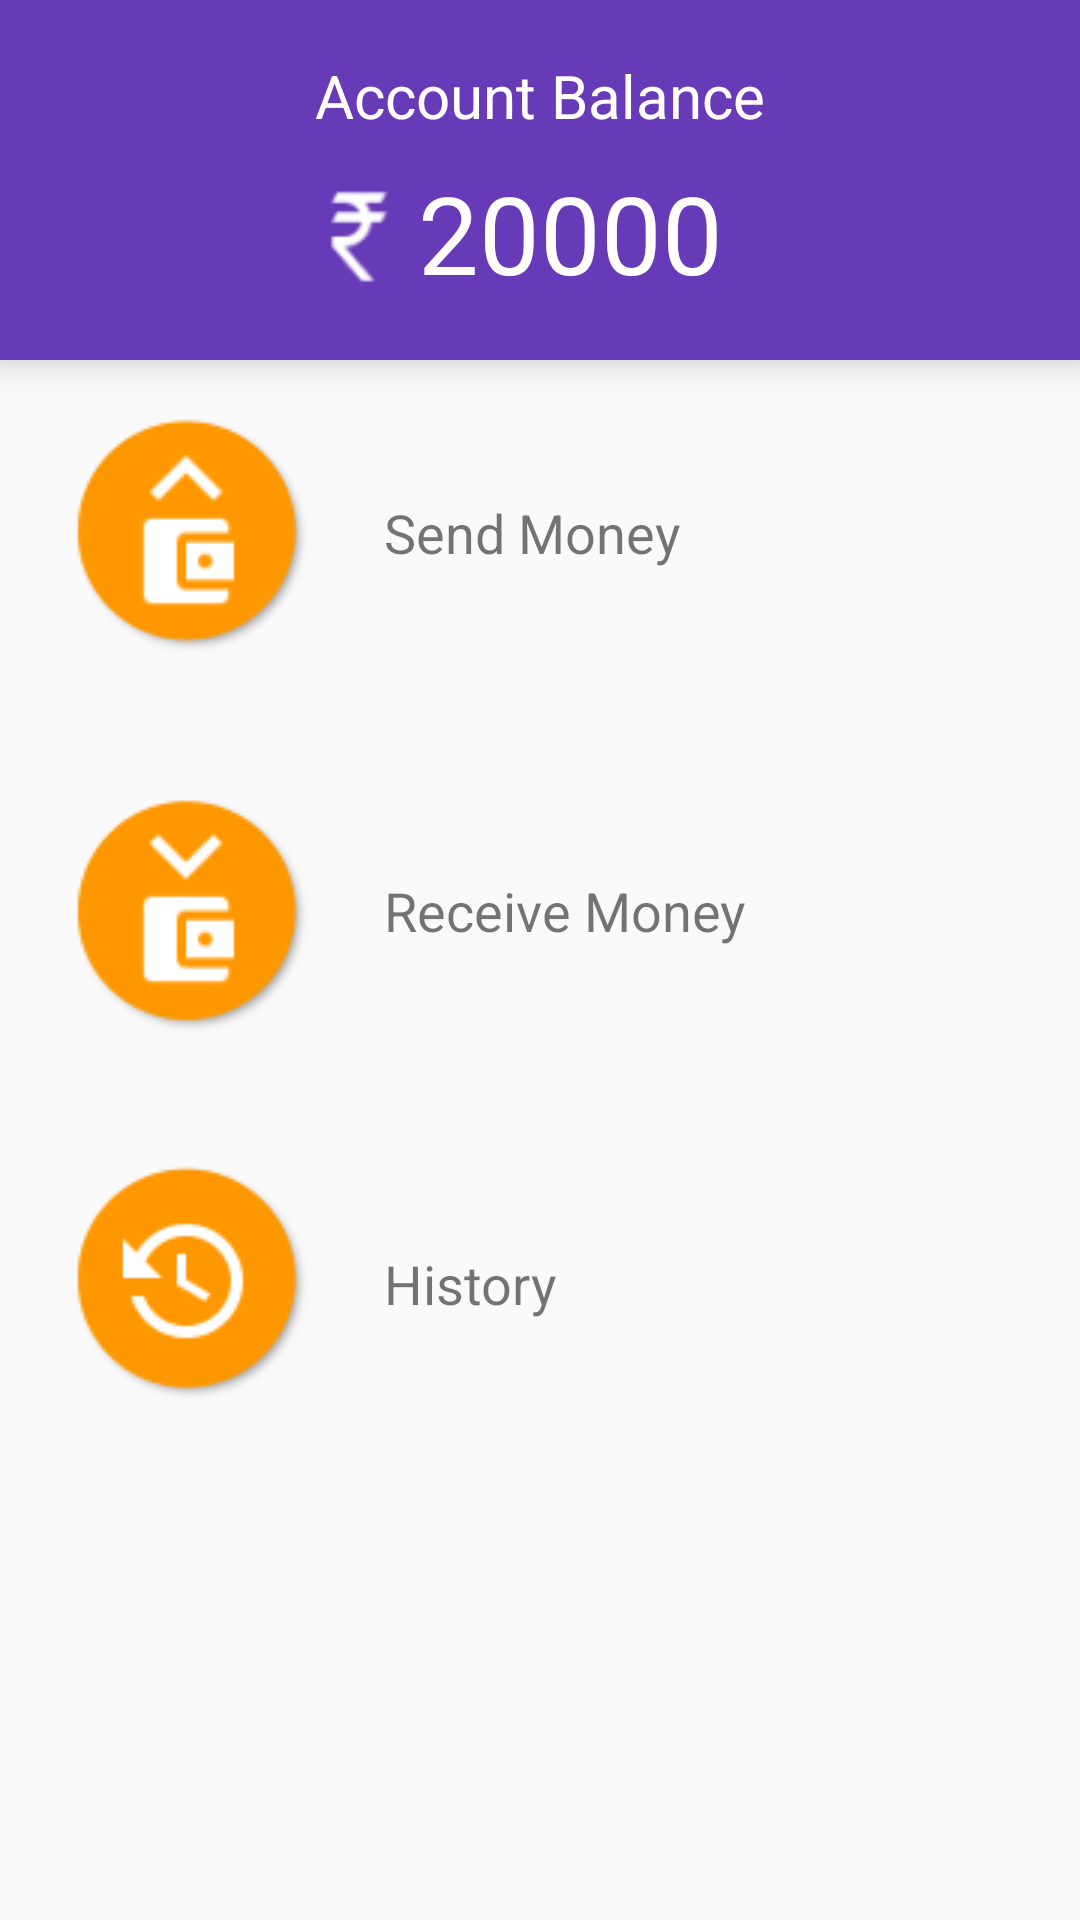

Screen size 1080×1920. Icon name, then its center in pixels as (x,y):
transaction: (189,1279)
